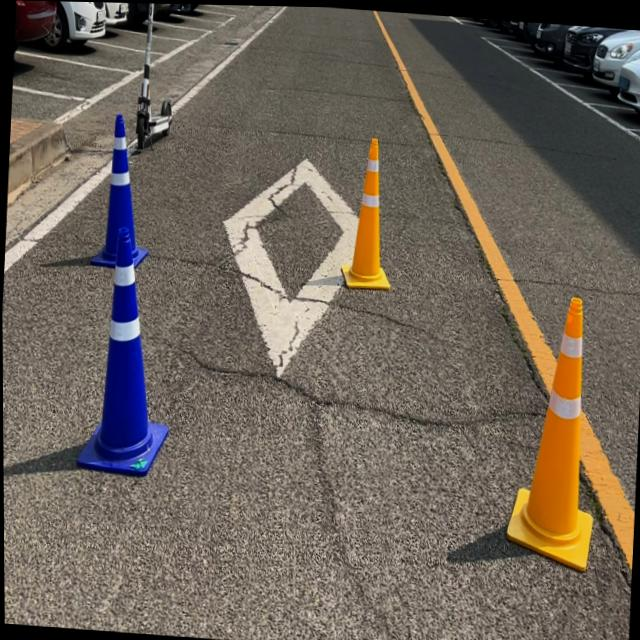b_rub: (76, 226, 167, 475), (90, 112, 147, 266)
y_rub: (507, 294, 593, 568), (342, 135, 390, 288)
